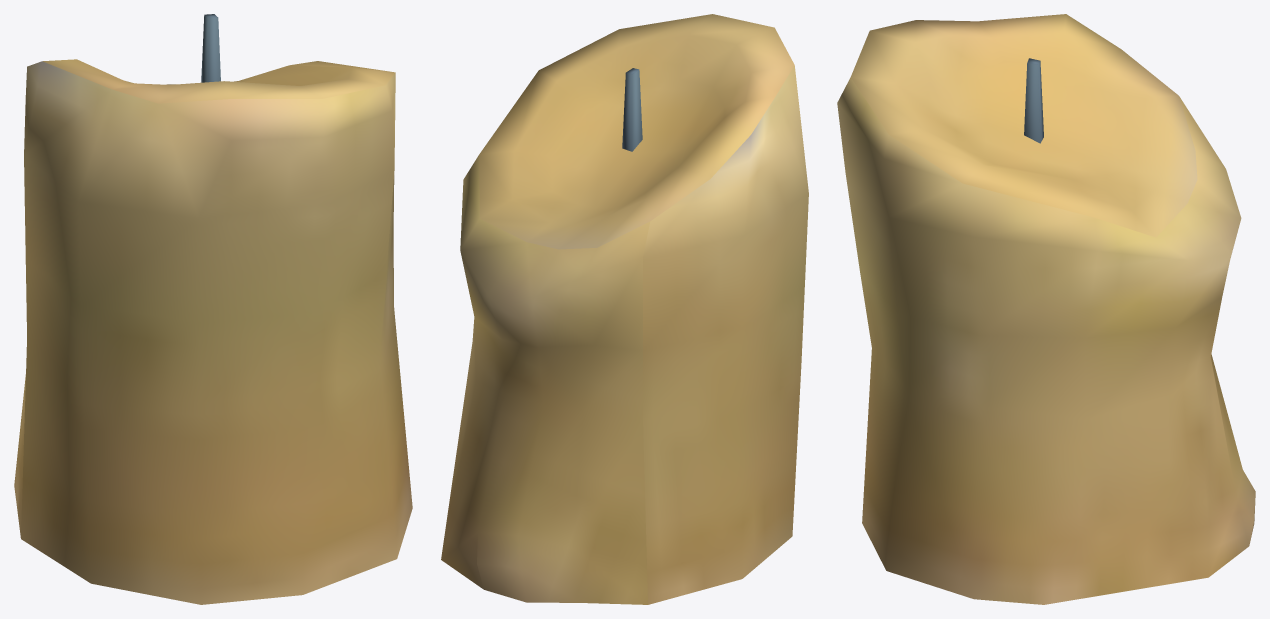
The model's file is stearinljus.glb.
The picture shows the model from 3 angles, left to right: view 1: azimuth 30°, elevation 25°; view 2: azimuth 150°, elevation 25°; view 3: azimuth 270°, elevation 25°; orthographic projection. The views are drawn at different scales.
Visible parts, largest first — view 1: Candle_1; view 2: Candle_1; view 3: Candle_1.
Part boxes in pixels (left/top/right/bottom): Candle_1: left=14, top=14, right=412, bottom=604; Candle_1: left=441, top=14, right=808, bottom=604; Candle_1: left=837, top=14, right=1255, bottom=604.
Bounding box in the file's own units: 0.0939 × 0.132 × 0.1079.
Materials: 1 (1 with a texture image).
